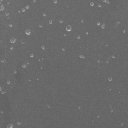corrosion: (65, 24, 72, 32), (24, 29, 31, 36), (9, 37, 16, 43), (21, 63, 27, 69), (40, 44, 46, 50), (96, 21, 101, 27), (24, 5, 30, 10), (89, 2, 95, 7), (8, 22, 13, 28), (76, 35, 81, 40), (48, 19, 53, 24), (6, 80, 11, 85), (42, 13, 47, 17), (29, 53, 33, 58), (59, 19, 63, 24)
